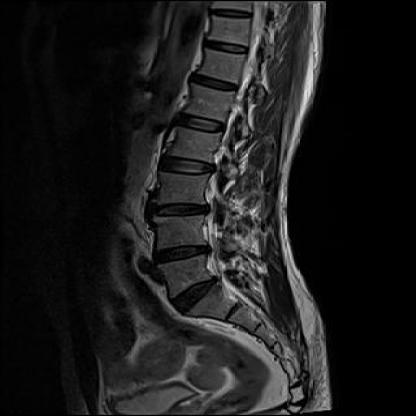Degenerative Disc Diseaserotation: (167, 280, 231, 310)
Disc Bulgerotation: (140, 196, 214, 229), (149, 241, 214, 270)
